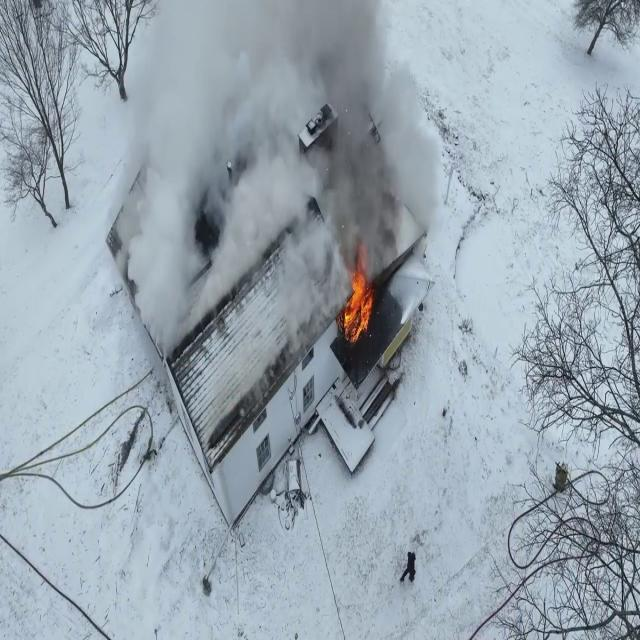Fire: (339, 258, 376, 346)
Smoke: (97, 0, 448, 320)
